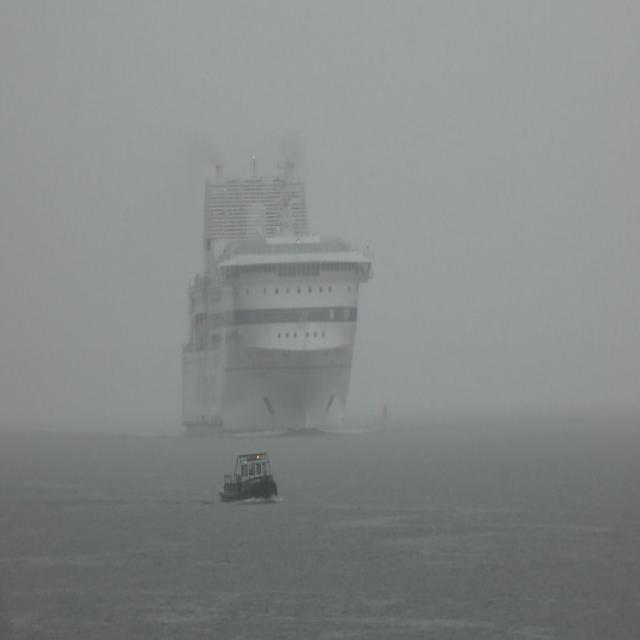houseboat: (213, 443, 277, 507)
passenger ship: (168, 134, 370, 430)
